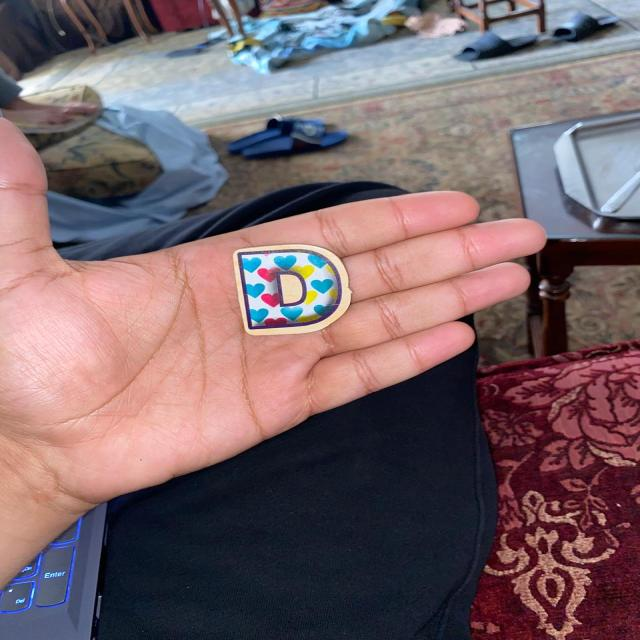D: (233, 244, 351, 335)
